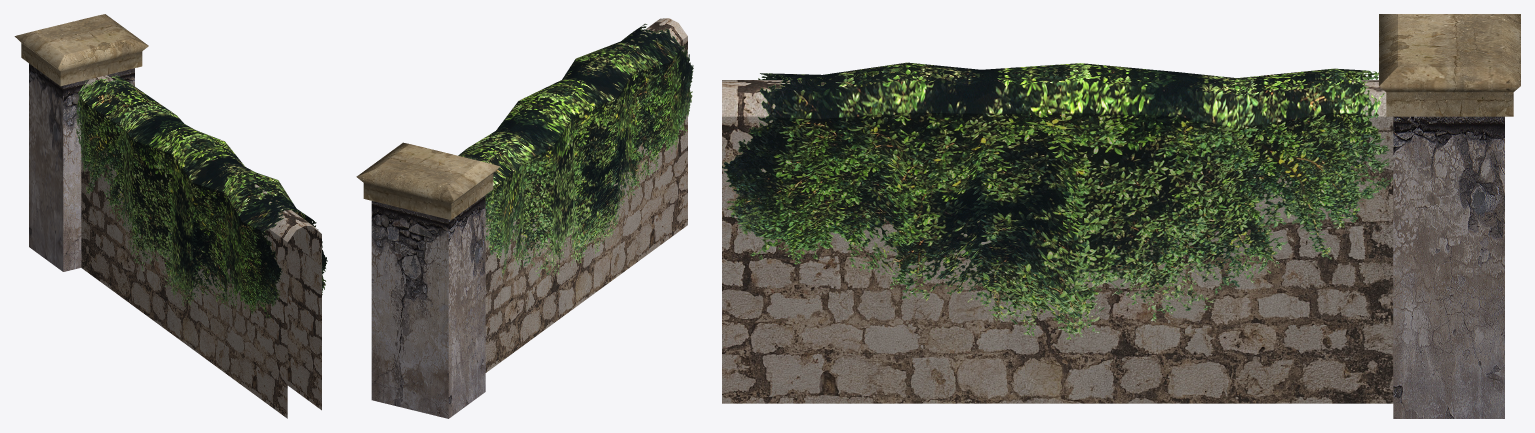
File: Wall_Straight_01.fbx
3 views of the same model, side by side, from view 1: azimuth 30°, elevation 25°; view 2: azimuth 150°, elevation 25°; view 3: azimuth 270°, elevation 25° (orthographic). The views are drawn at different scales.
Visible parts, largest first — view 1: wall_straight; view 2: wall_straight; view 3: wall_straight.
Boxes of the visible parts, bbox=[...] form: wall_straight: bbox=[14, 14, 327, 418]; wall_straight: bbox=[356, 18, 693, 418]; wall_straight: bbox=[722, 14, 1520, 418].
Size of the model in its own units: 1.53 by 3.45 by 7.14.
